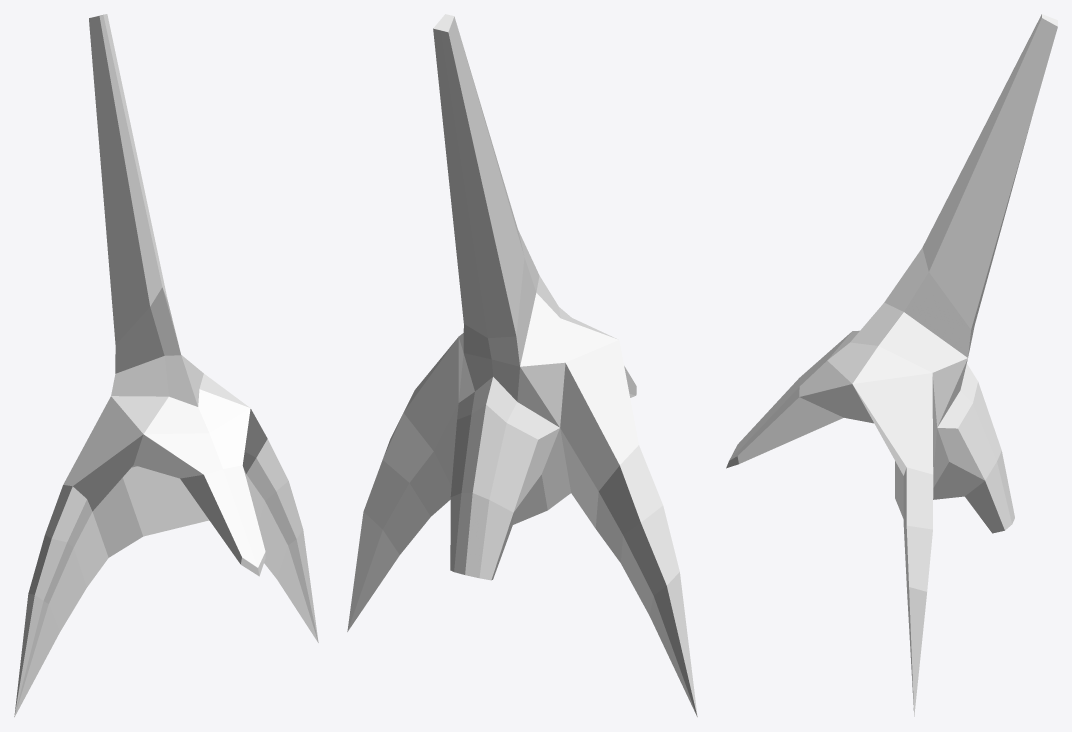
The model's file is head_32.fbx.
3 renders of one model, left to right at view 1: azimuth 30°, elevation 25°; view 2: azimuth 150°, elevation 25°; view 3: azimuth 270°, elevation 25°, orthographic. The views are drawn at different scales.
Parts seen in each view (by area): view 1: Cube.160; view 2: Cube.160; view 3: Cube.160.
Boxes of the visible parts, x1=… form: Cube.160: x1=14, y1=14, x2=318, y2=717; Cube.160: x1=347, y1=14, x2=697, y2=717; Cube.160: x1=726, y1=14, x2=1057, y2=716.
Bounding box in the file's own units: 80.98 × 158 × 75.61.
